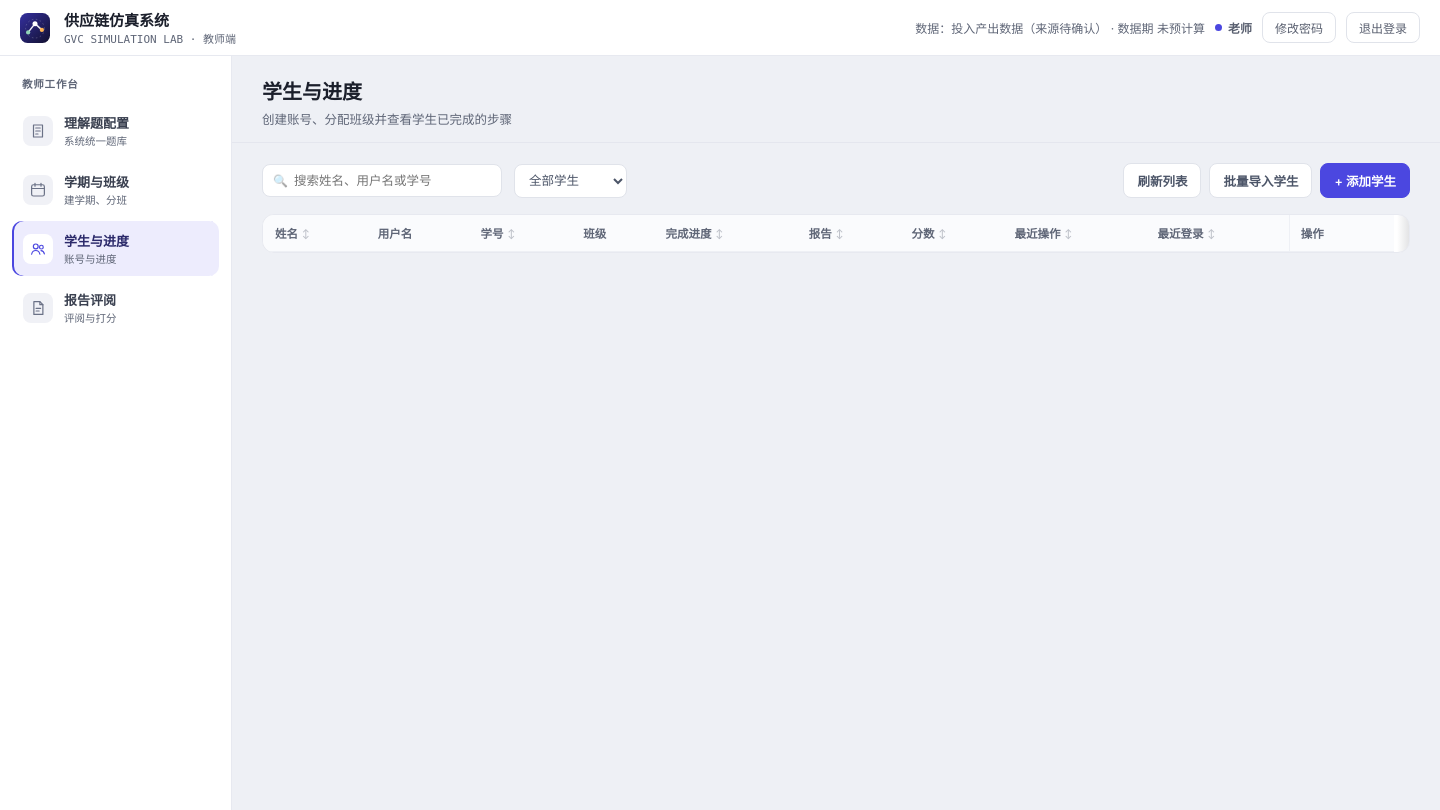
Test: teacher review flow › a 409 reload over a review saved elsewhere shows that review beside the kept draft, and can take it
The image size is (1440, 810).
Click the button "报告评阅 评阅与打分".
click(116, 308)  # box top-left (12, 280), bottom-right (219, 335)
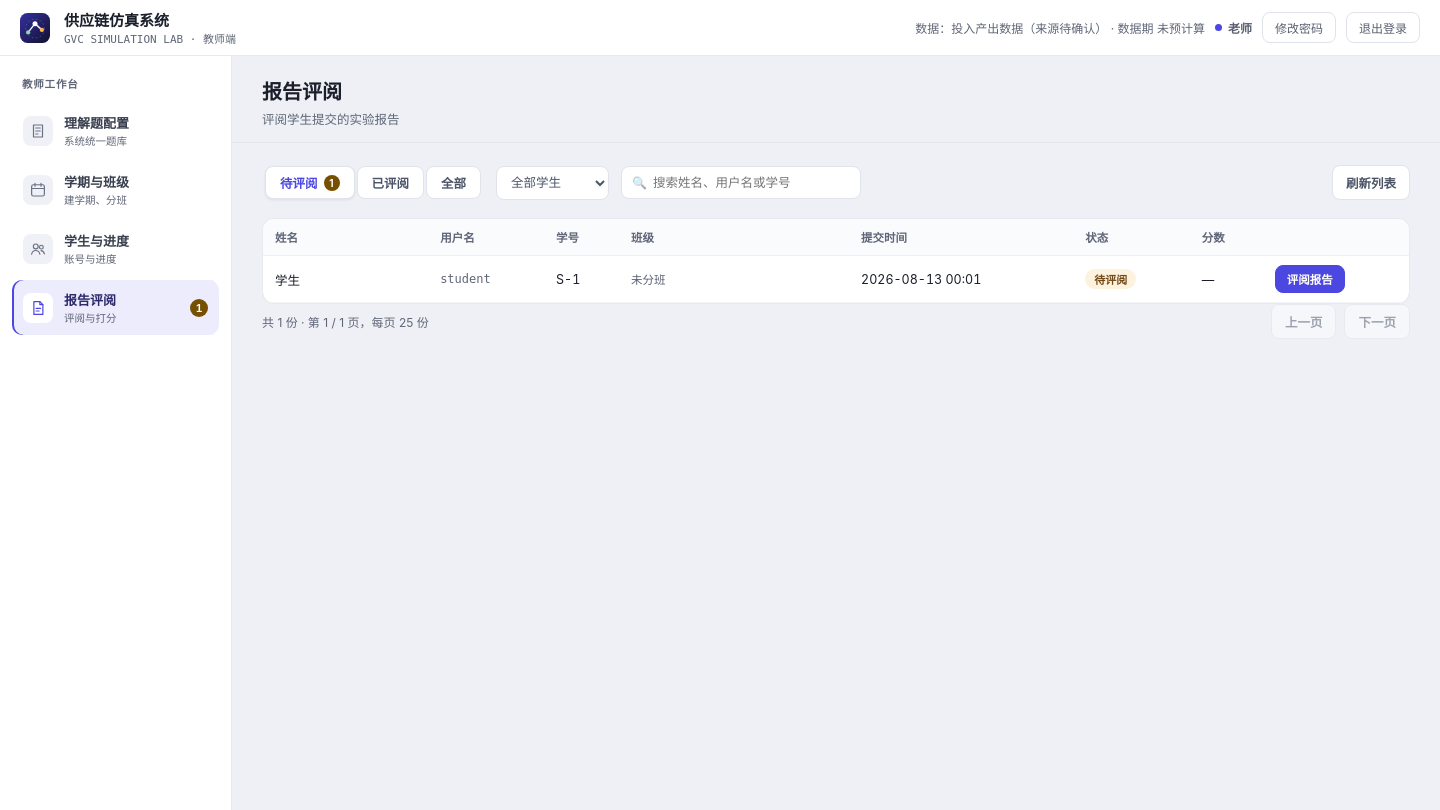
Click the button with aria-label "评阅报告：学生".
click(1310, 279)  # box top-left (1275, 265), bottom-right (1345, 293)
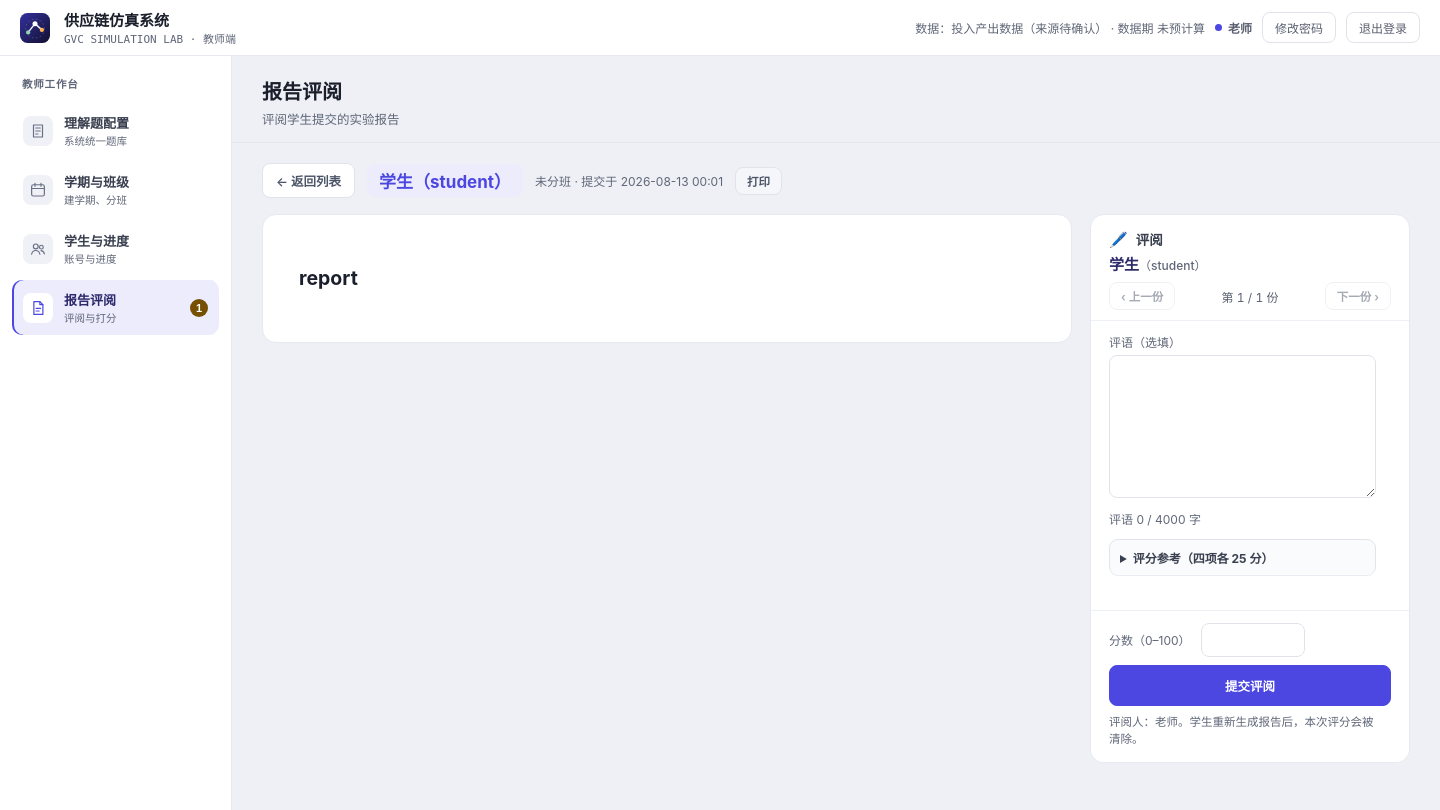
Type "88" into the number field.
click(1253, 640); type("88")  # box top-left (1201, 623), bottom-right (1305, 657)
Type "本页的评语" into the text box labelled "评语（选填）".
click(1242, 426); type("本页的评语")  # box top-left (1109, 355), bottom-right (1376, 498)
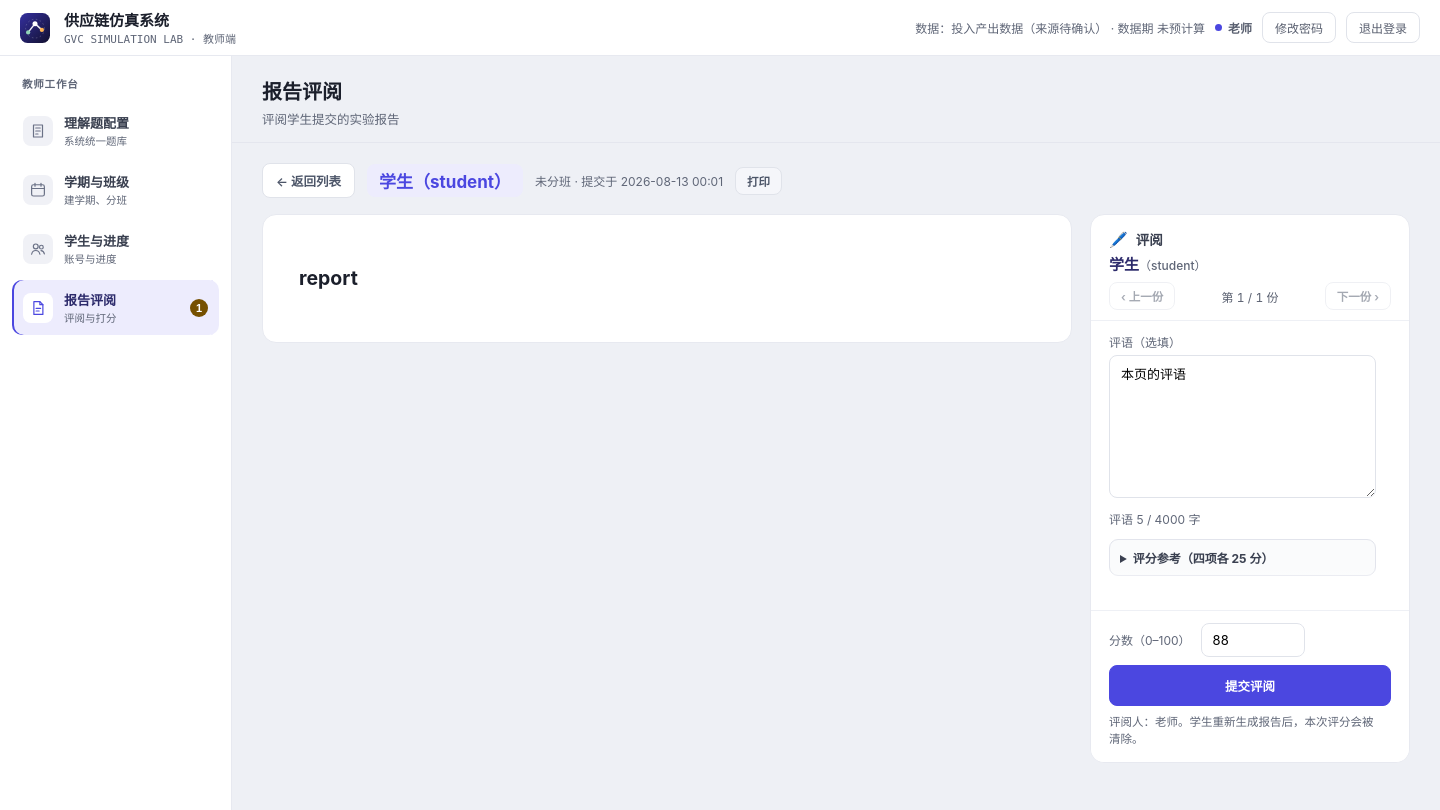
Click the button "提交评阅".
click(1250, 685)  # box top-left (1109, 665), bottom-right (1391, 706)
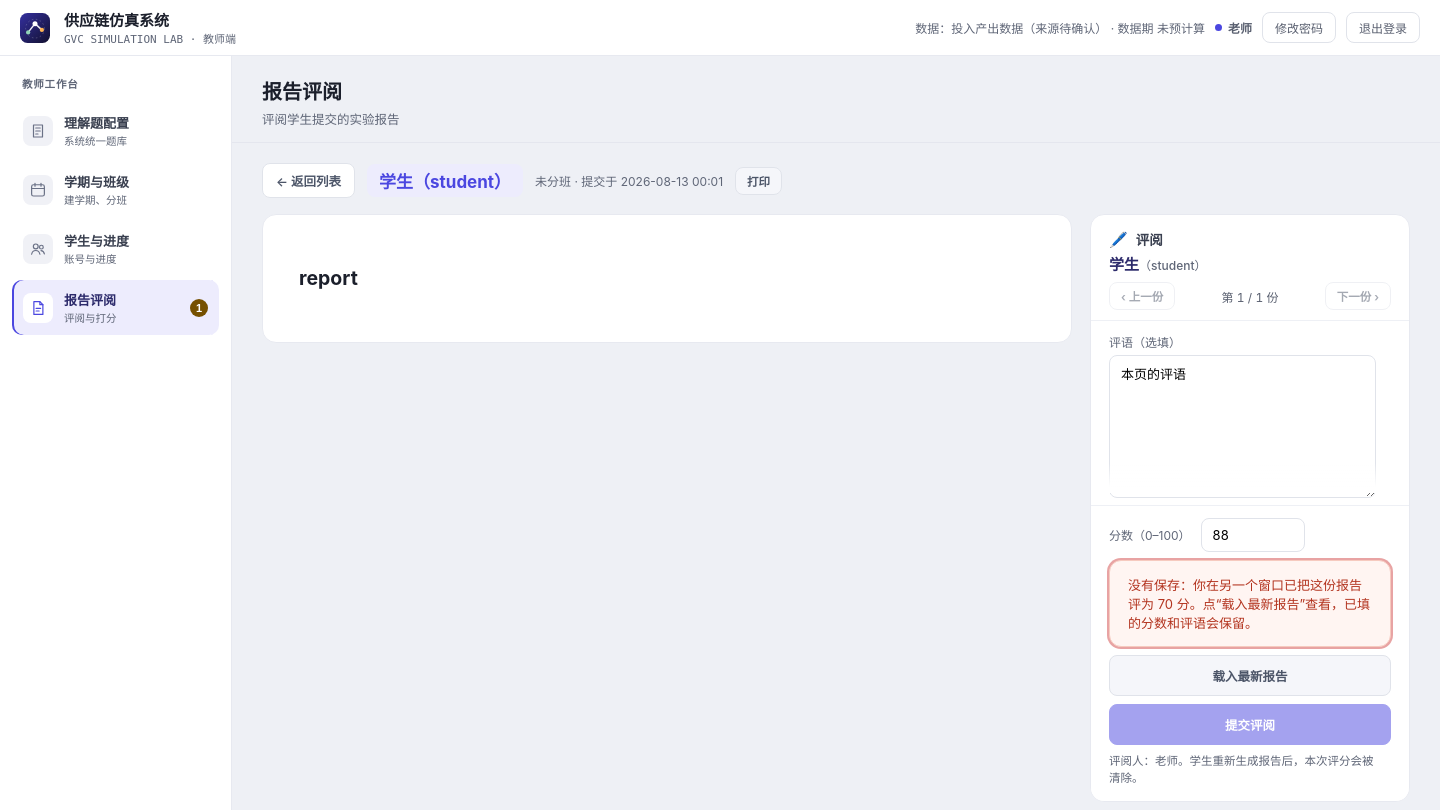
Click the button "载入最新报告".
click(1250, 675)  # box top-left (1109, 654), bottom-right (1391, 696)
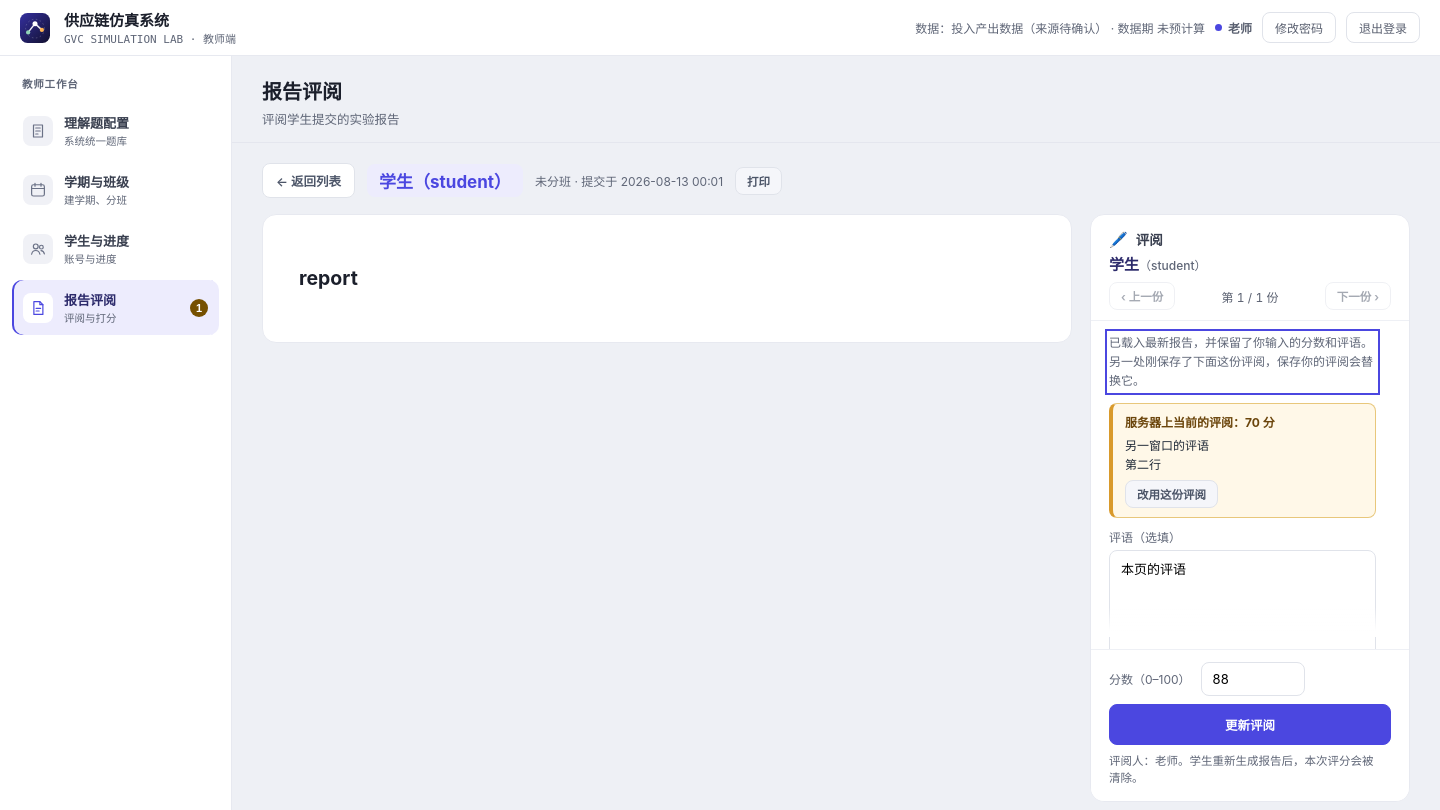
Now the number field holds "88", box top-left (1201, 662), bottom-right (1305, 696)
Now the text "已载入最新报告，并保留了你输入的分数和评语。另一处刚保存了下面这份评阅，保存你的评阅会替换它。" is shown, box top-left (1109, 333), bottom-right (1376, 391)
Now the element "服务器上当前的评阅" shows "服务器上当前的评阅：70 分", box top-left (1109, 403), bottom-right (1376, 518)
Click the button "改用这份评阅".
click(1172, 494)  # box top-left (1125, 480), bottom-right (1218, 508)
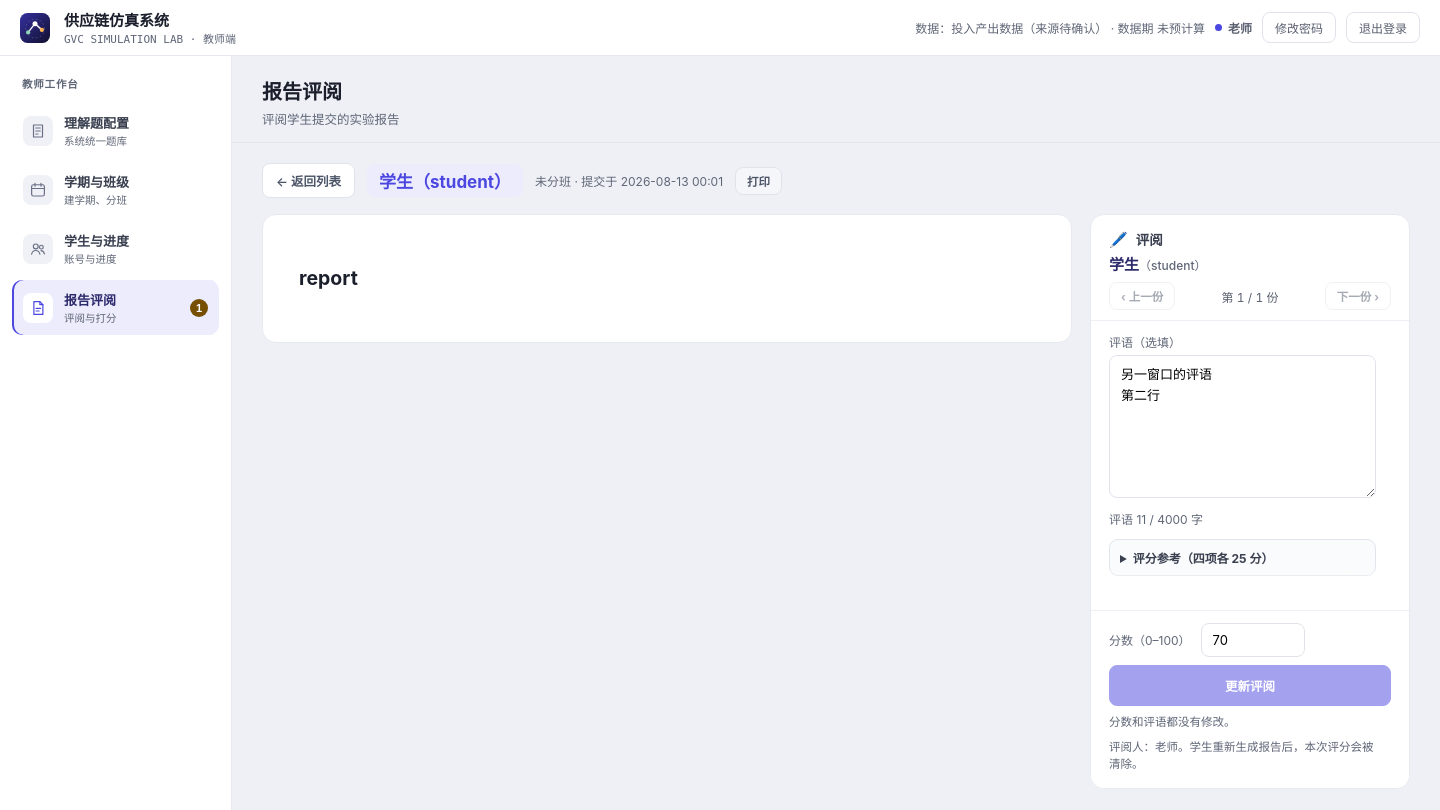
Now the number field holds "70", box top-left (1201, 623), bottom-right (1305, 657)
Now the text "已载入最新报告，并保留了你输入的分数和评语。另一处刚保存了下面这份评阅，保存你的评阅会替换它。" is gone
Now the text "服务器上当前的评阅" is gone
